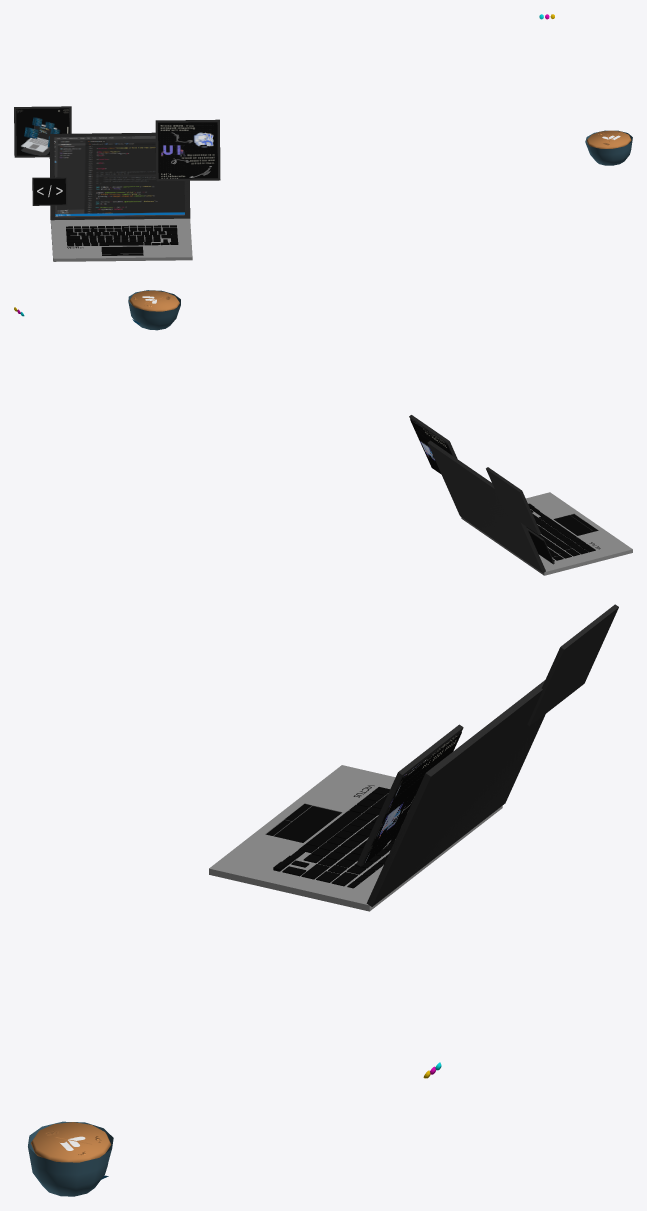
Rendered from blender_file.glb.
3 renders of one model, top to bottom at view 1: azimuth 30°, elevation 25°; view 2: azimuth 150°, elevation 25°; view 3: azimuth 270°, elevation 25°, orthographic. The views are drawn at different scales.
Visible parts, largest first — view 1: Cube.055, Cube, Cube.080, Cube.172, Cube.001, Cube.085, Cube.176, Circle, Cube.165, Circle.002, Cube.166; view 2: Cube, Cube.001, Cube.085, Cube.166, Circle, Circle.002, Cube.173; view 3: Cube, Cube.001, Cube.085, Cube.166, Circle, Circle.002, Cube.173, Cube.165.
Part boxes in pixels (box(x1,y1,x2,y2)): Cube.055: box(54, 136, 184, 217); Cube: box(50, 218, 192, 261); Cube.080: box(158, 122, 217, 178); Cube.172: box(16, 108, 69, 155); Cube.001: box(49, 133, 189, 220); Cube.085: box(49, 132, 190, 220); Cube.176: box(32, 178, 65, 204); Circle: box(585, 130, 632, 165); Cube.165: box(155, 119, 220, 181); Circle.002: box(586, 130, 631, 148); Cube.166: box(14, 106, 71, 157); Cube: box(461, 492, 632, 575); Cube.001: box(427, 441, 545, 571); Cube.085: box(427, 440, 545, 573); Cube.166: box(486, 467, 540, 534); Circle: box(128, 290, 180, 330); Circle.002: box(129, 290, 179, 311); Cube.173: box(410, 419, 451, 473); Cube: box(209, 765, 502, 911); Cube.001: box(366, 689, 545, 906); Cube.085: box(367, 680, 544, 906); Cube.166: box(527, 604, 618, 726); Circle: box(28, 1121, 113, 1196); Circle.002: box(31, 1122, 111, 1162); Cube.173: box(364, 732, 461, 863); Cube.165: box(356, 724, 463, 866).
Size of the model in its own units: 32.69 by 6.26 by 16.02.
169 materials, 4 textured.
